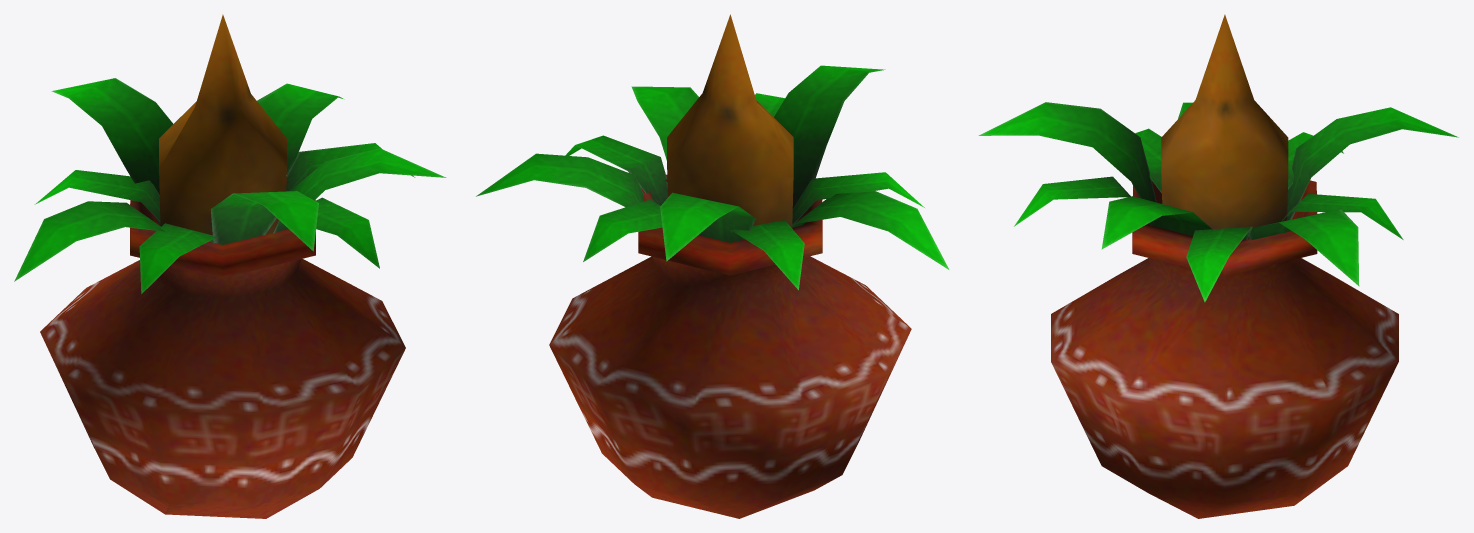
The model's file is icon.ico.obj.
The picture shows the model from 3 angles, left to right: view 1: azimuth 30°, elevation 25°; view 2: azimuth 150°, elevation 25°; view 3: azimuth 270°, elevation 25°; orthographic projection.
Size of the model in its own units: 4.37 by 4.88 by 4.53.
1 material, 1 textured.
